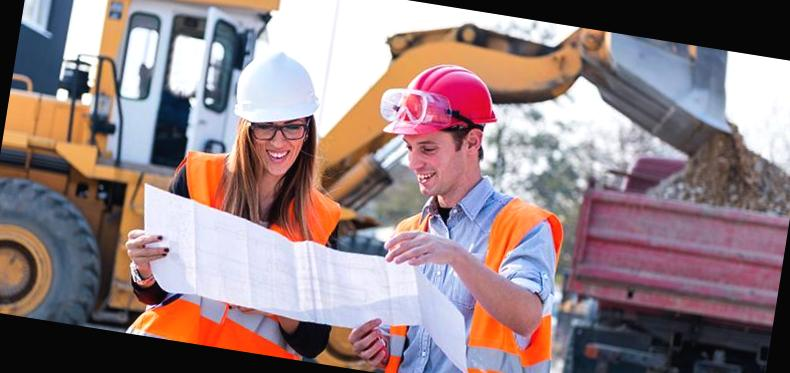helmet: (377, 53, 510, 160), (224, 42, 332, 140)
no_vest: (114, 142, 346, 358), (370, 176, 573, 373)
person: (123, 30, 367, 363), (365, 56, 596, 373)
